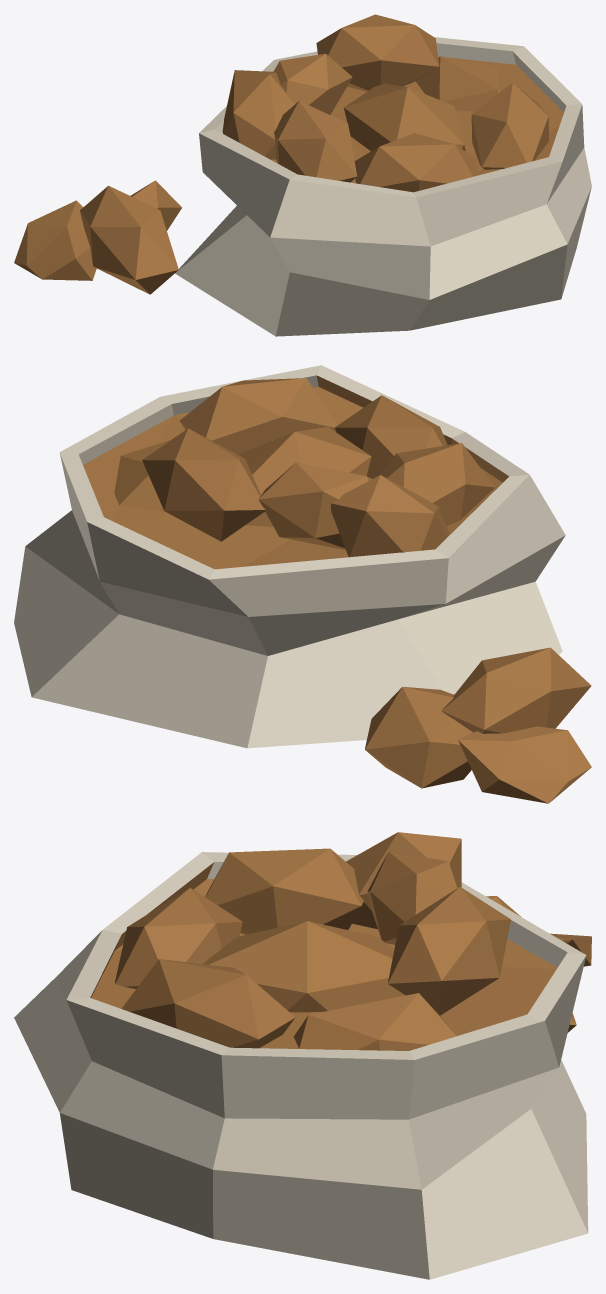
The model's file is pomme_de_terre.fbx.
The picture shows the model from 3 angles, top to bottom: view 1: azimuth 30°, elevation 25°; view 2: azimuth 150°, elevation 25°; view 3: azimuth 270°, elevation 25°; orthographic projection. The views are drawn at different scales.
Visible parts, largest first — view 1: Patate; view 2: Patate; view 3: Patate.
Boxes of the visible parts, x1,y1,x2,y2 form: Patate: (14,14,591,336); Patate: (14,365,591,803); Patate: (14,832,591,1279).
Bounding box in the file's own units: 57.01 × 42.41 × 21.85.
